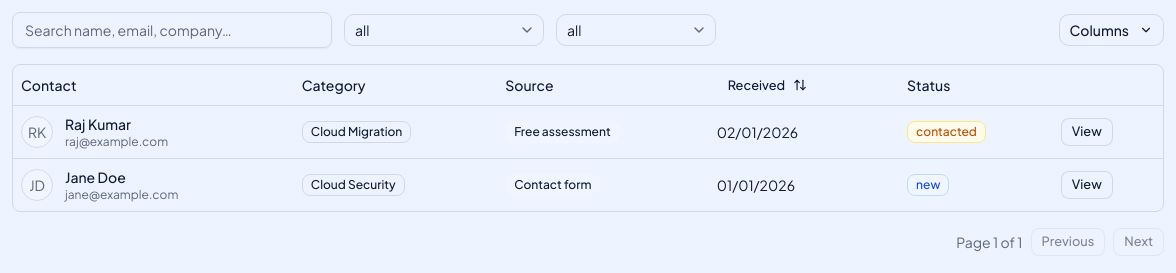
Test case: EnquiriesDataTable › filters by status via the status select
Click the 2nd dropdown labelled "all ▼" at x=636, y=30, box [556,14,716,46]
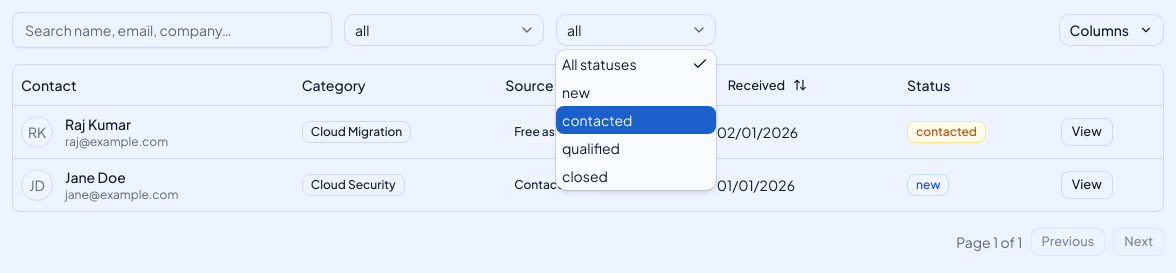
Click the option "contacted" at x=636, y=120, box [556,106,716,134]
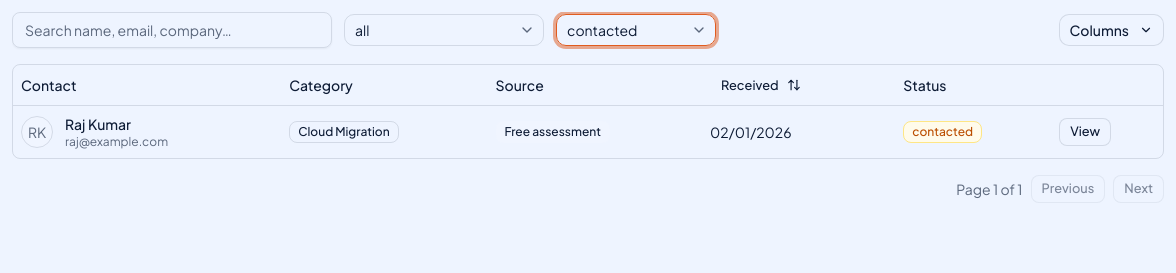
Expected: the text "Raj Kumar" is shown, [65,114,131,132]
Now the text "Jane Doe" is gone
